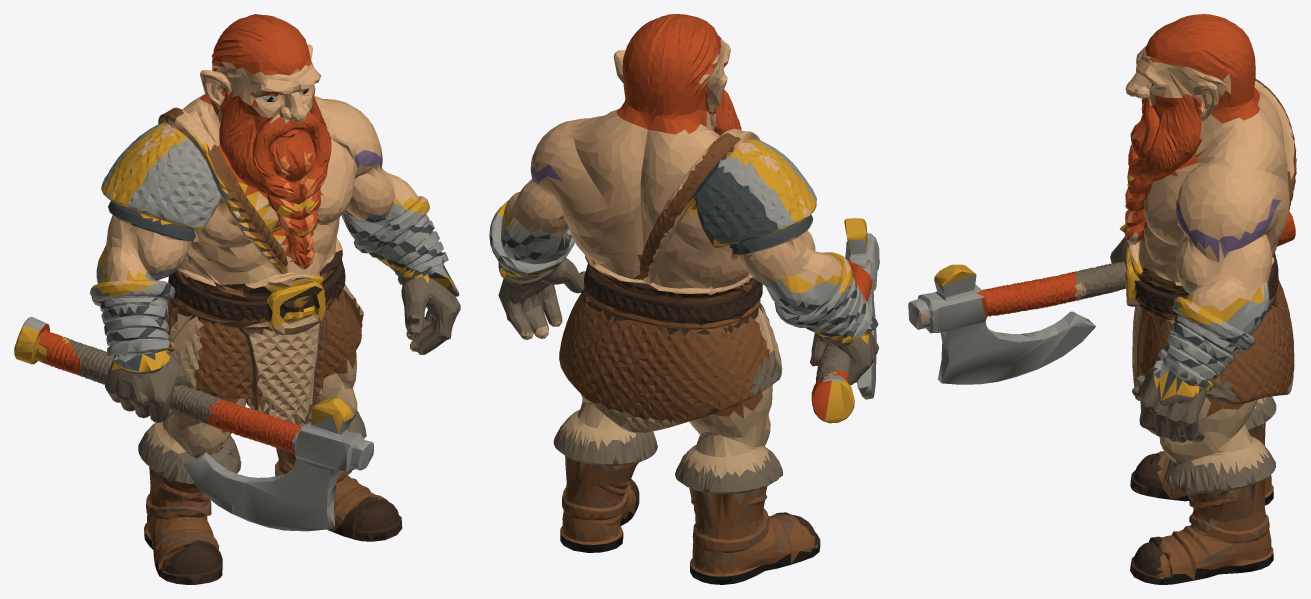
Rendered from dwarven-warrior.obj.
The picture shows the model from 3 angles, left to right: view 1: azimuth 30°, elevation 25°; view 2: azimuth 150°, elevation 25°; view 3: azimuth 270°, elevation 25°; orthographic projection.
Parts seen in each view (by area): view 1: dwarven-warrior; view 2: dwarven-warrior; view 3: dwarven-warrior.
Boxes of the visible parts, x1,y1,x2,y2 form: dwarven-warrior: (14, 14, 460, 584); dwarven-warrior: (489, 14, 879, 584); dwarven-warrior: (908, 14, 1296, 584).
Bounding box in the file's own units: 3.39 × 4.25 × 2.93.
